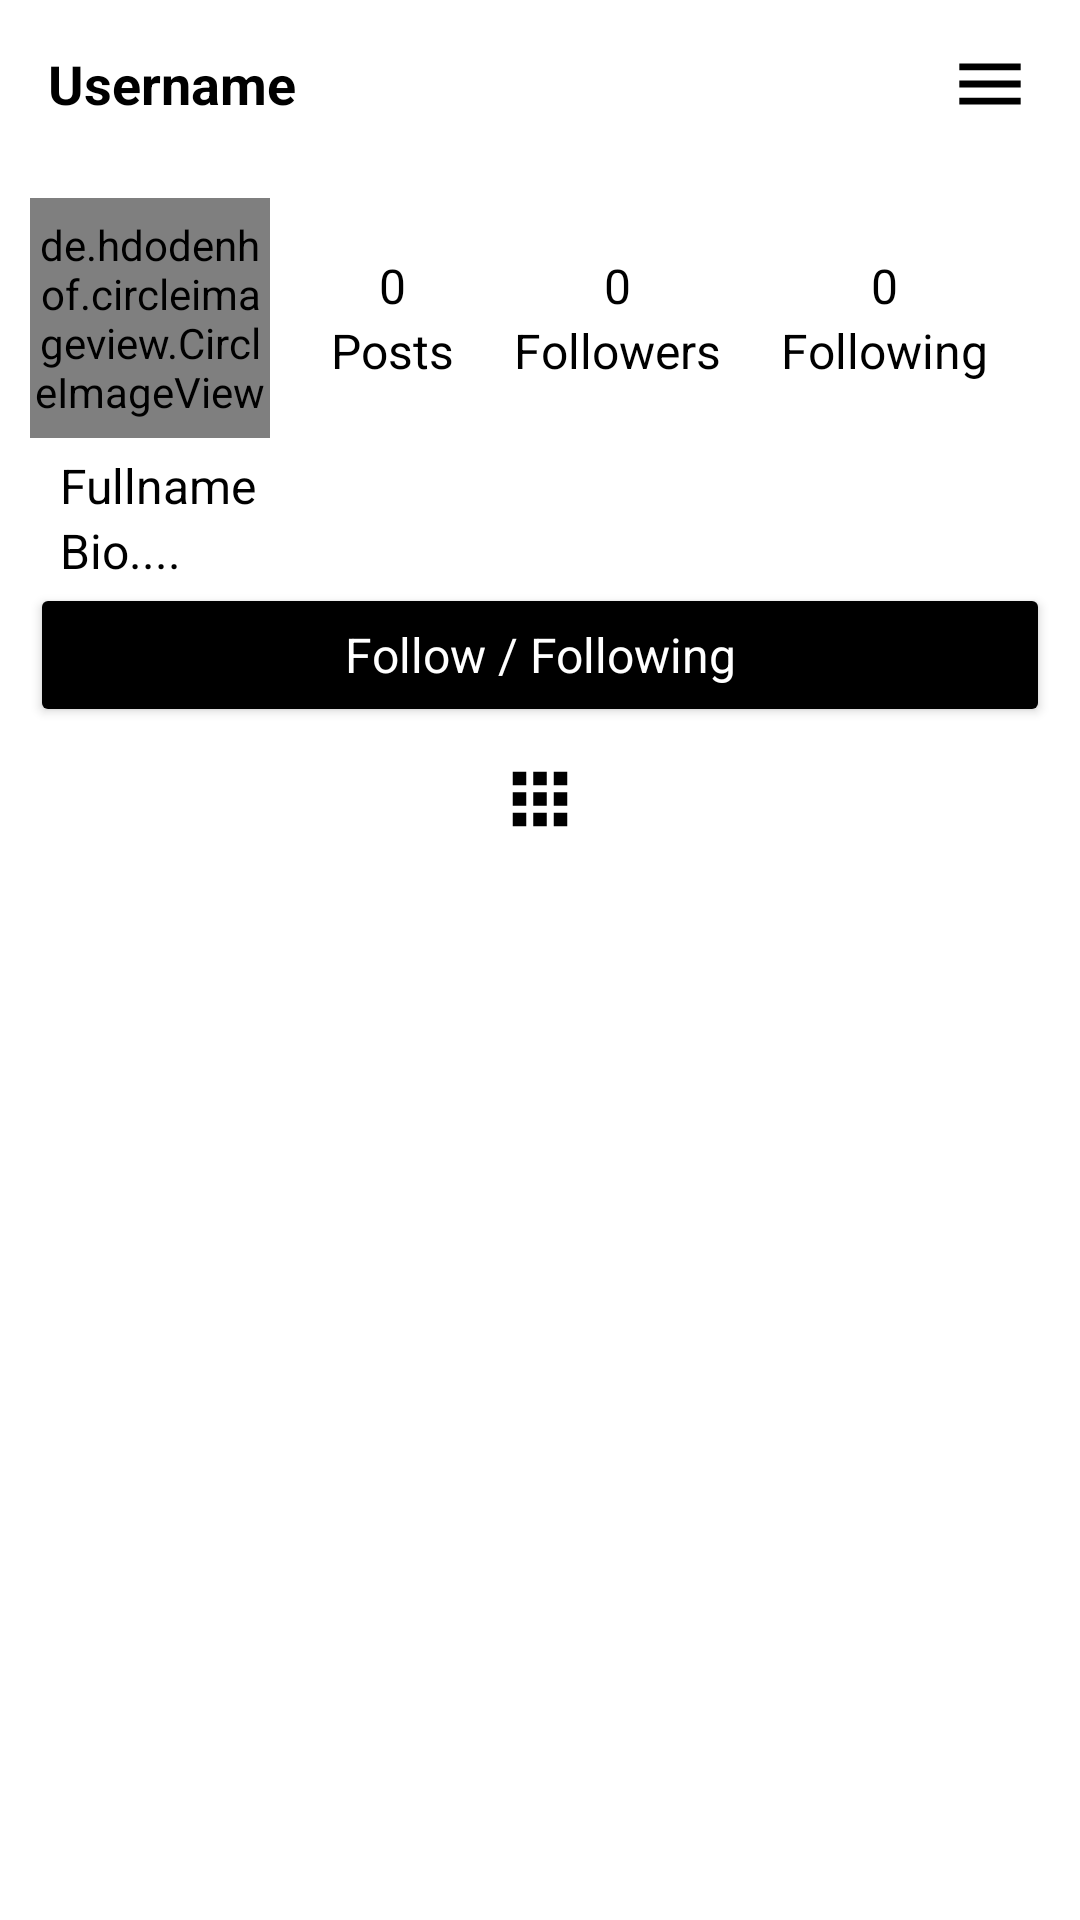

Screen size 1080*1920. Icon name, then its box in pixels as bbox=(x1, y1, x2, y2):
options: bbox=(959, 63, 1021, 105)
